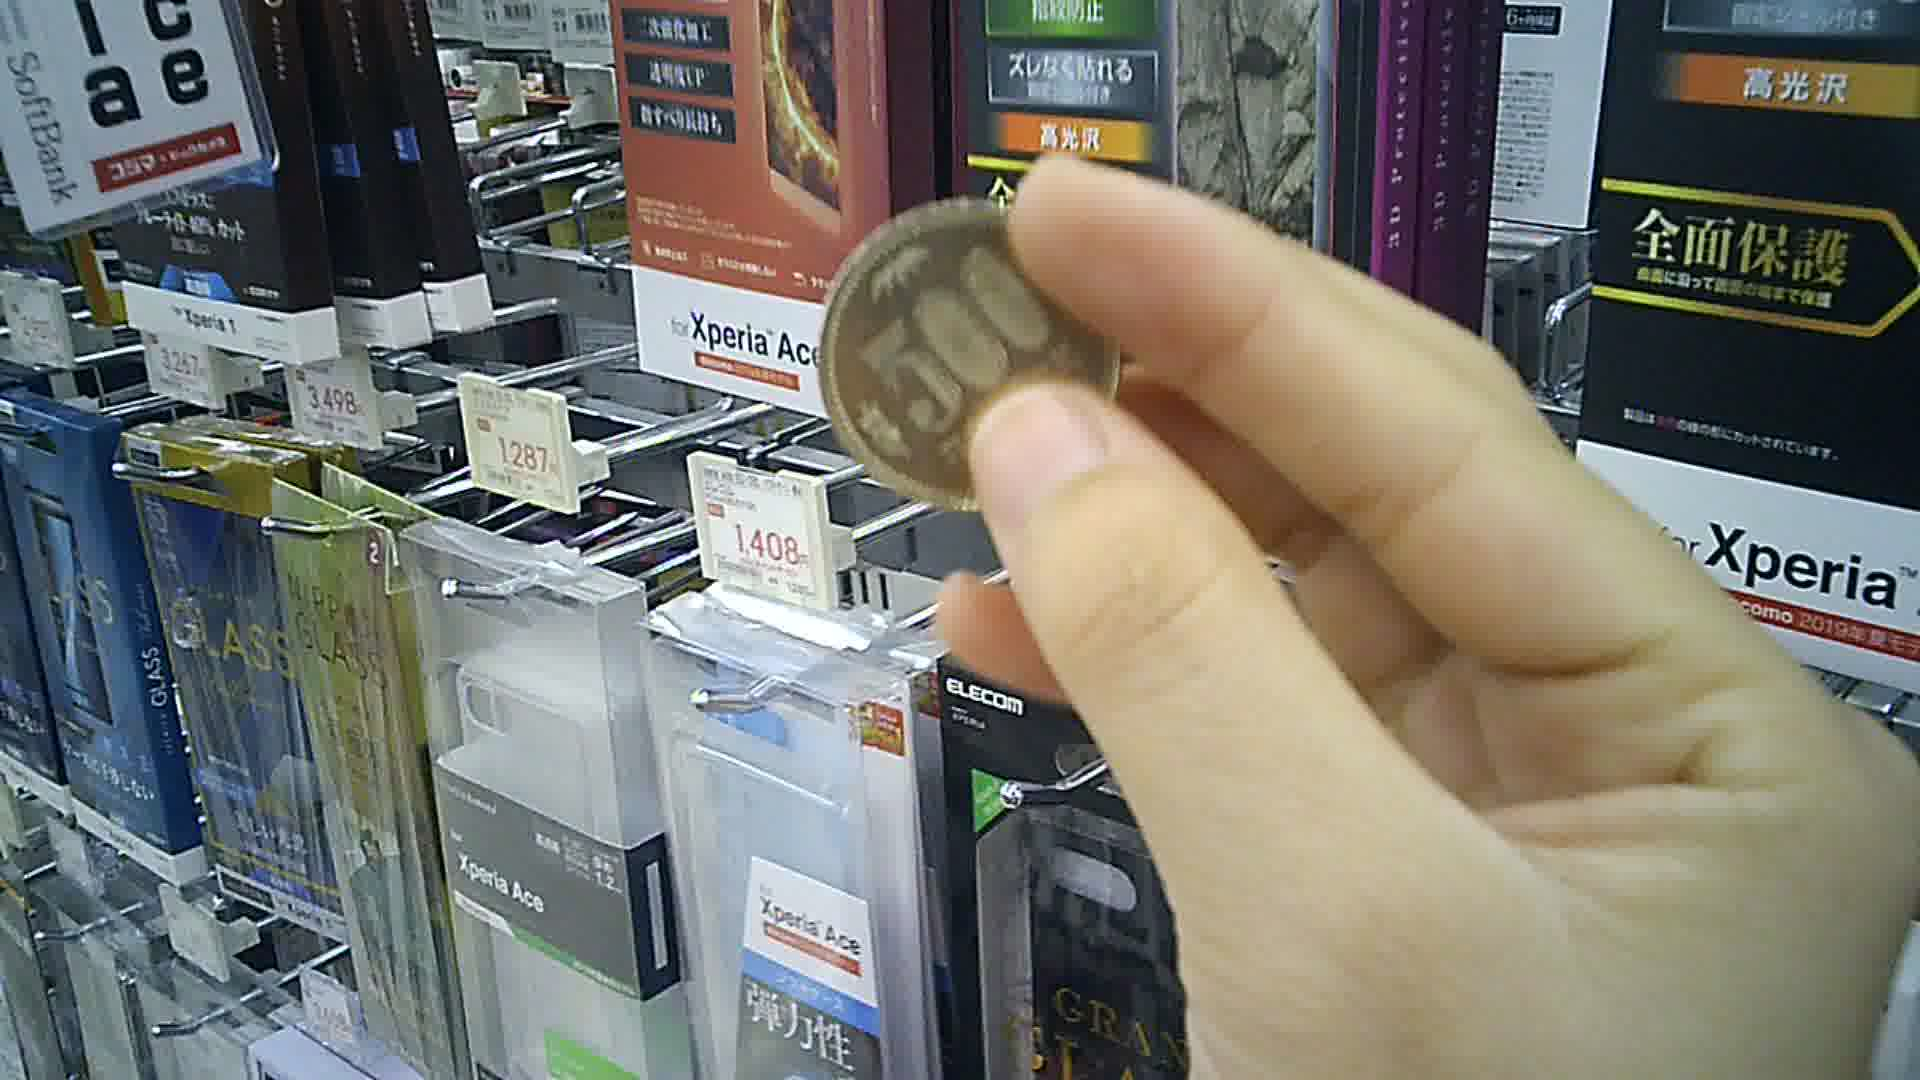500 Yen: (814, 200, 1134, 524)
